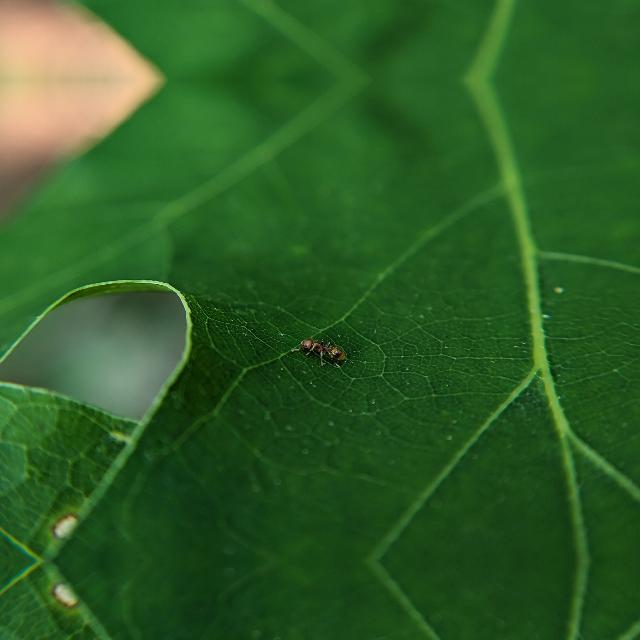Temnothorax: (295, 332, 351, 362)
